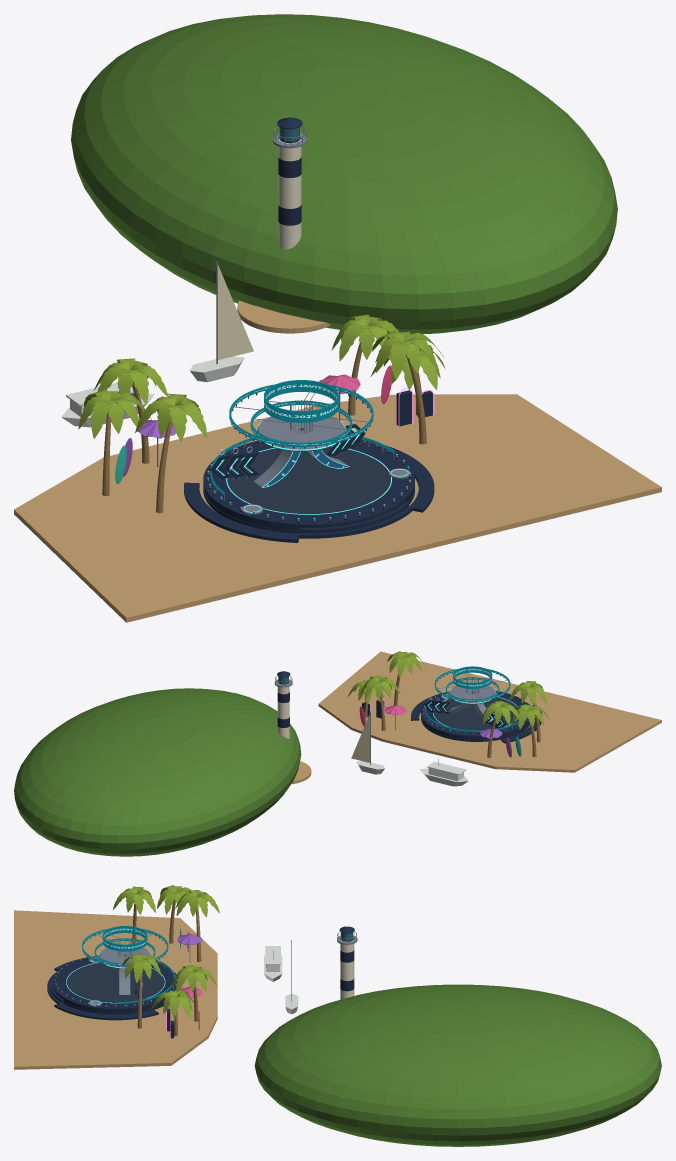
Rendered from harbor-r03b-material.glb.
3 renders of one model, top to bottom at view 1: azimuth 30°, elevation 25°; view 2: azimuth 150°, elevation 25°; view 3: azimuth 270°, elevation 25°, orthographic. The views are drawn at different scales.
Visible parts, largest first — view 1: ENV_REAR_HILL, ENV_SAND_ISLAND, PLATFORM_MAIN, PLATFORM_OUTER_APRON, CROWN_SAUCER, CROWN_TOP_DISPLAY_DRUM, SAILBOAT_MAINSAIL, OUTER_WING_L, LIGHTHOUSE_TOWER, LIGHTHOUSE_ISLET, CROWN_OUTER_DISPLAY_RING, OUTER_WING_R (+1 smaller); view 2: ENV_REAR_HILL, ENV_SAND_ISLAND, PLATFORM_MAIN, PLATFORM_OUTER_APRON, CROWN_SAUCER, CROWN_TOP_DISPLAY_DRUM, SAILBOAT_MAINSAIL, LIGHTHOUSE_TOWER, CROWN_OUTER_DISPLAY_RING, YACHT_HULL; view 3: ENV_REAR_HILL, ENV_SAND_ISLAND, PLATFORM_MAIN, PLATFORM_OUTER_APRON, CROWN_TOP_DISPLAY_DRUM, OUTER_WING_R, LIGHTHOUSE_TOWER, CROWN_SAUCER.
Boxes of the visible parts, box(x1,y1,x2,y2) form: ENV_REAR_HILL: box(71, 14, 617, 334); ENV_SAND_ISLAND: box(14, 394, 661, 622); PLATFORM_MAIN: box(227, 446, 390, 513); PLATFORM_OUTER_APRON: box(204, 440, 414, 530); CROWN_SAUCER: box(257, 416, 345, 451); CROWN_TOP_DISPLAY_DRUM: box(264, 380, 338, 422); SAILBOAT_MAINSAIL: box(218, 265, 253, 359); OUTER_WING_L: box(184, 482, 299, 542); LIGHTHOUSE_TOWER: box(278, 139, 301, 249); LIGHTHOUSE_ISLET: box(237, 300, 330, 333); CROWN_OUTER_DISPLAY_RING: box(229, 384, 373, 446); OUTER_WING_R: box(361, 439, 434, 512); ENV_REAR_HILL: box(14, 688, 301, 856); ENV_SAND_ISLAND: box(318, 651, 661, 772); PLATFORM_MAIN: box(433, 697, 517, 730); PLATFORM_OUTER_APRON: box(421, 691, 529, 739); CROWN_SAUCER: box(449, 685, 495, 703); CROWN_TOP_DISPLAY_DRUM: box(453, 666, 492, 688); SAILBOAT_MAINSAIL: box(351, 713, 370, 762); LIGHTHOUSE_TOWER: box(277, 683, 289, 738); CROWN_OUTER_DISPLAY_RING: box(434, 669, 510, 701); YACHT_HULL: box(420, 768, 468, 786); ENV_REAR_HILL: box(254, 984, 661, 1146); ENV_SAND_ISLAND: box(14, 910, 217, 1069); PLATFORM_MAIN: box(66, 962, 164, 1002); PLATFORM_OUTER_APRON: box(53, 957, 177, 1012); CROWN_TOP_DISPLAY_DRUM: box(102, 926, 147, 951); OUTER_WING_R: box(54, 1003, 158, 1020); LIGHTHOUSE_TOWER: box(340, 939, 354, 999); CROWN_SAUCER: box(98, 947, 150, 968).
Size of what is drawn, in the model's own units: 60 by 17.65 by 70.
21 materials, 2 textured.
